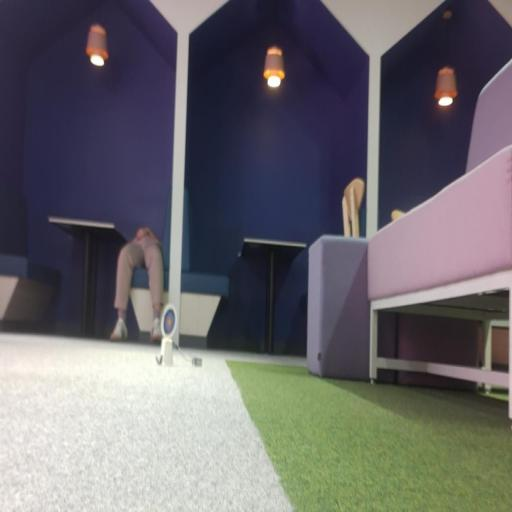target: (161, 304, 176, 341)
